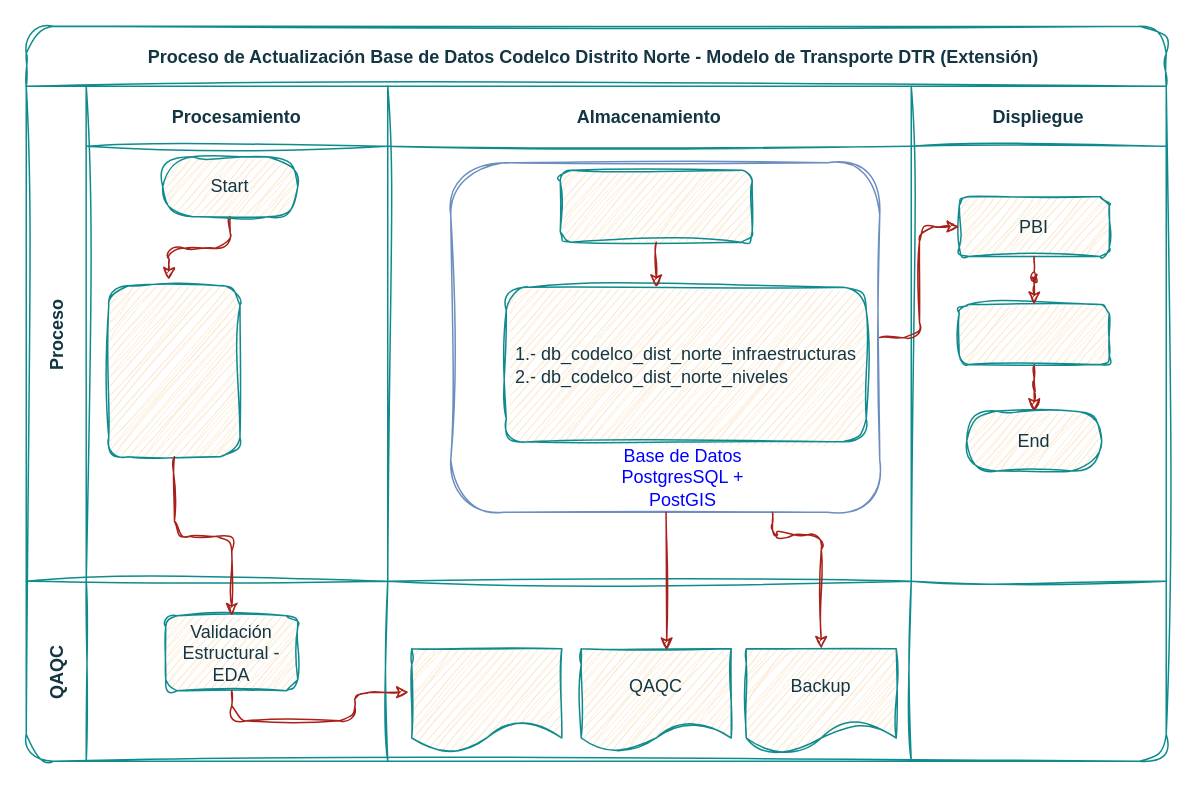
This 1193x788 diagram has some shape labels left out. Here are the shapes that lost their labels. From the top down, the centre of each, then its label:
point 655,205: Modelo de Datos
point 1033,333: Visualizaciones Python
point 173,370: Script Python Procesamiento archivos xlsx
point 486,700: Log de errores
